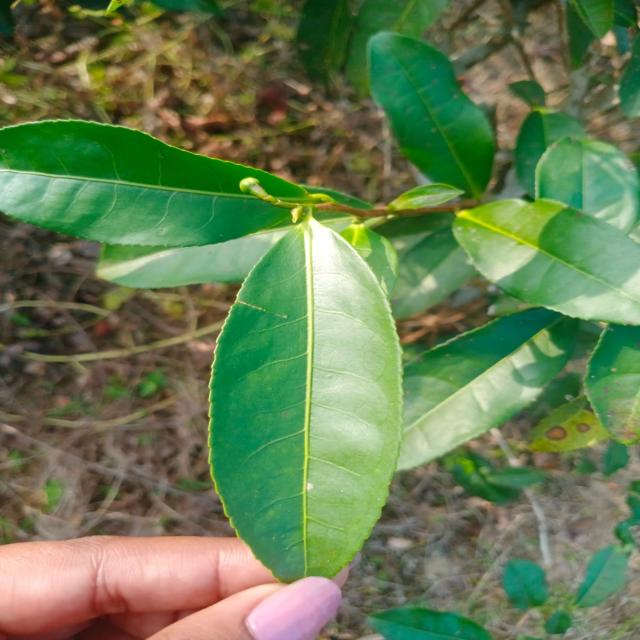Category D(7+ days, Not for Tea): (178, 204, 446, 605)
